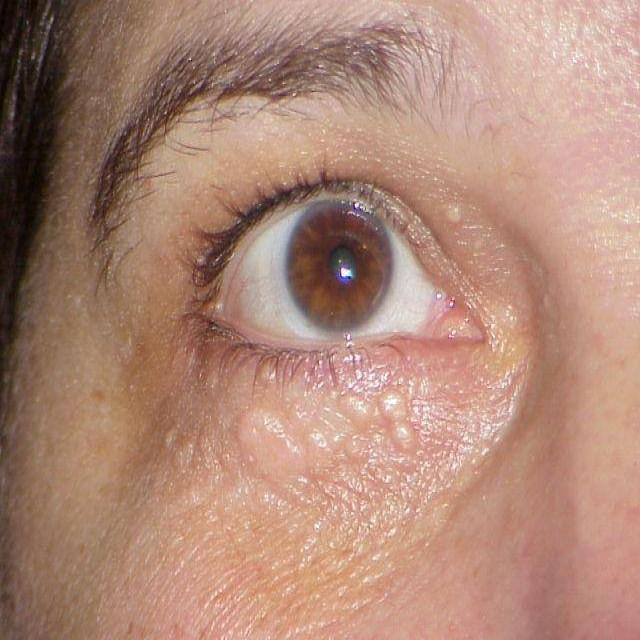7: (436, 188, 472, 239)
blackheads: (231, 384, 424, 483)
